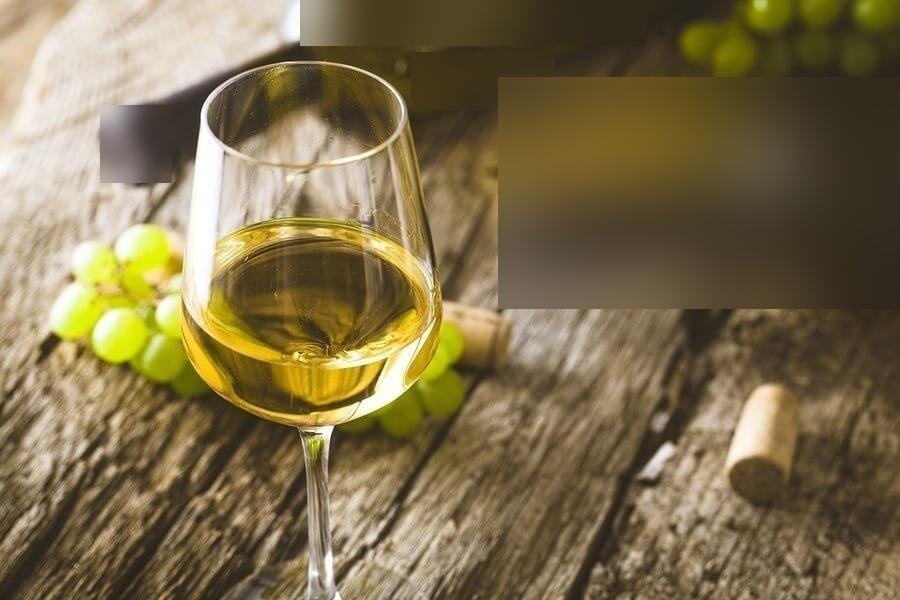glass-wine: (178, 59, 447, 599)
